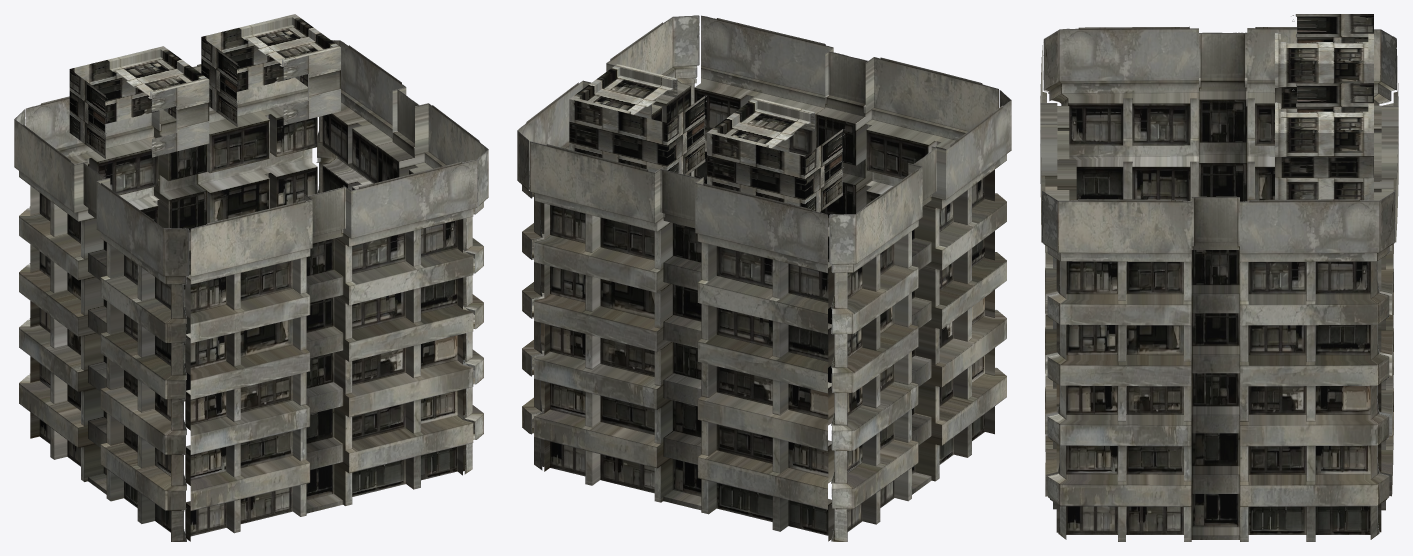
Rendered from OldTower.fbx.
The picture shows the model from 3 angles, left to right: view 1: azimuth 30°, elevation 25°; view 2: azimuth 150°, elevation 25°; view 3: azimuth 270°, elevation 25°; orthographic projection. The views are drawn at different scales.
Visible parts, largest first — view 1: building; view 2: building; view 3: building.
Boxes of the visible parts, x1,y1,x2,y2 form: building: [14, 14, 488, 541]; building: [517, 15, 1011, 541]; building: [1040, 14, 1398, 541].
Bounding box in the file's own units: 8.26 × 8.64 × 7.23.
1 material, 1 textured.
